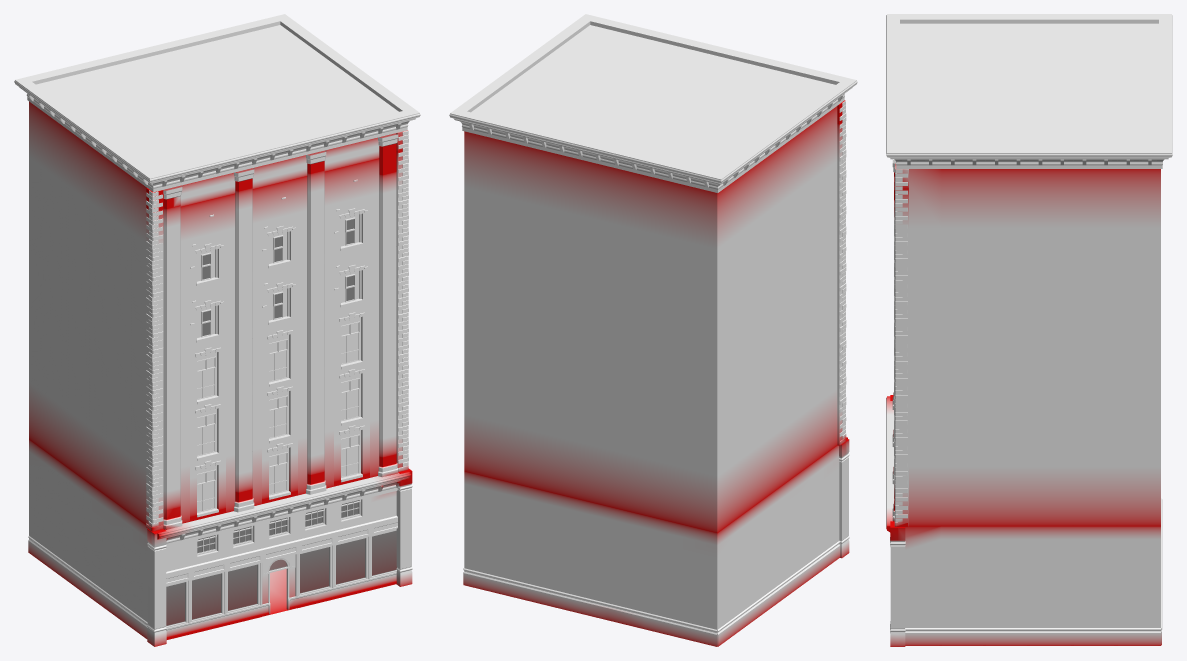
The model's file is Building_Medium_2_001.gltf.
3 renders of one model, left to right at view 1: azimuth 30°, elevation 25°; view 2: azimuth 150°, elevation 25°; view 3: azimuth 270°, elevation 25°, orthographic. The views are drawn at different scales.
Parts seen in each view (by area): view 1: Building_Medium_2.001; view 2: Building_Medium_2.001; view 3: Building_Medium_2.001.
Part boxes in pixels (x1,y1,x2,y2): Building_Medium_2.001: (14,14,420,646); Building_Medium_2.001: (449,14,857,646); Building_Medium_2.001: (886,14,1172,646).
Size of the model in its own units: 15.06 by 25.01 by 13.06.
